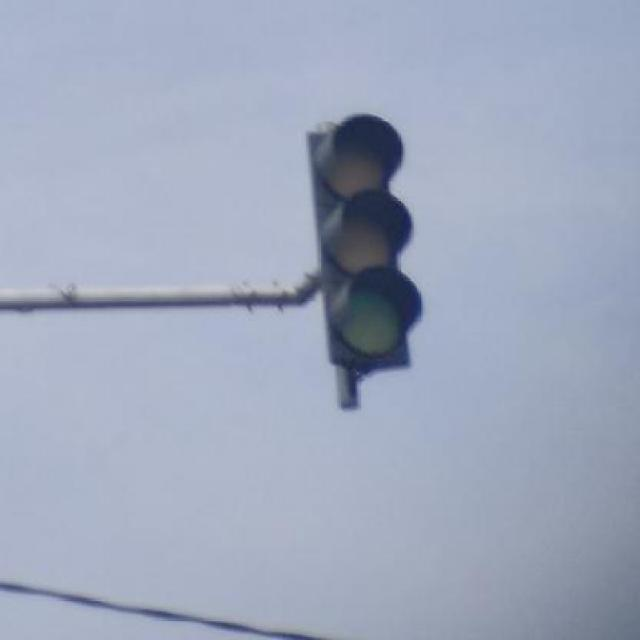traffic light: (307, 115, 419, 378)
